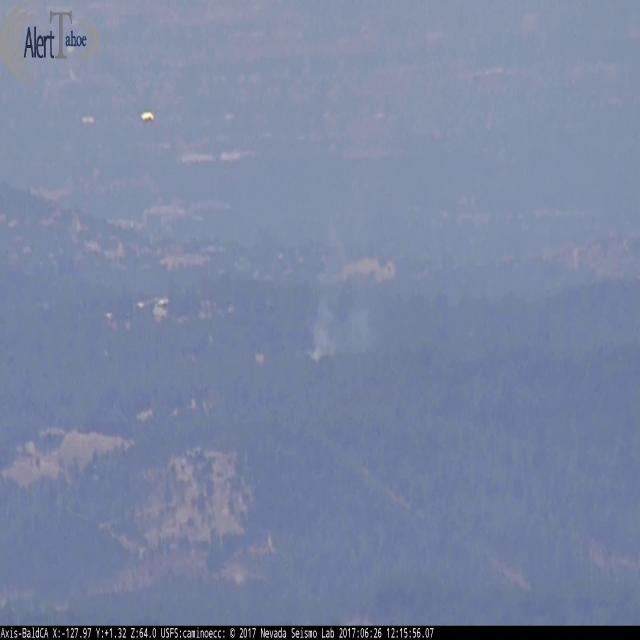smoke: (301, 223, 389, 362)
